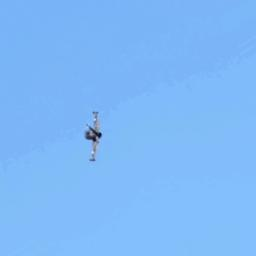Airplane: (84, 110, 105, 162)
